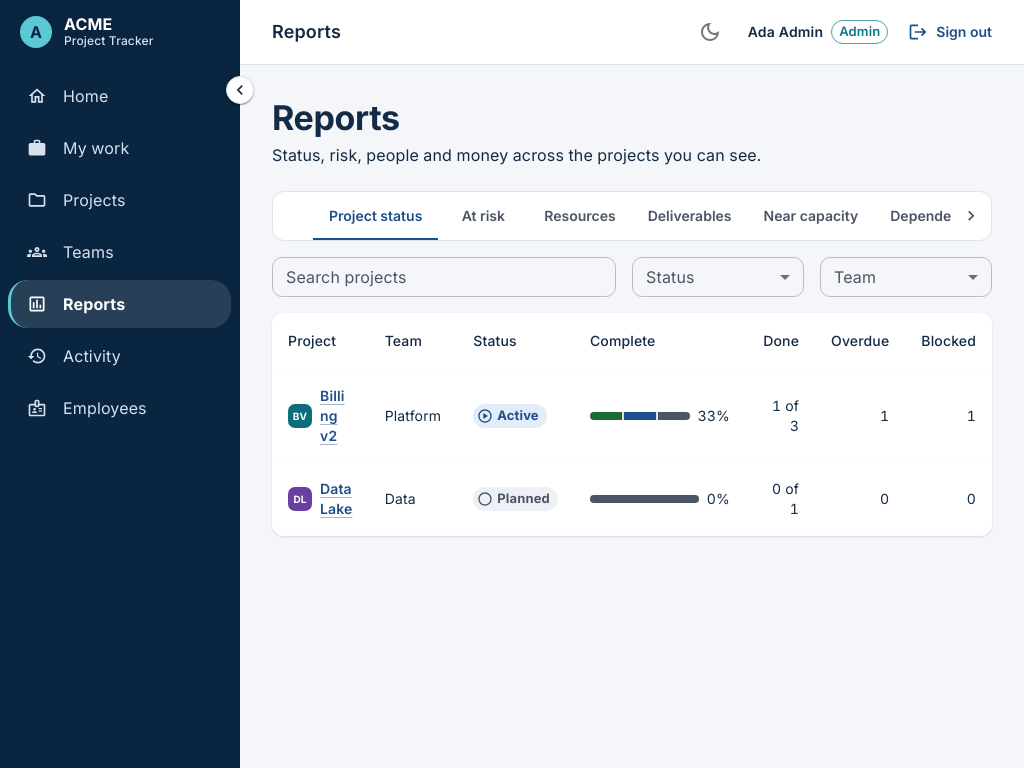
Test: Reports: content › at risk lists projects with readable reasons
Click the tab "At risk": (483, 216) left=438, top=192, right=528, bottom=240
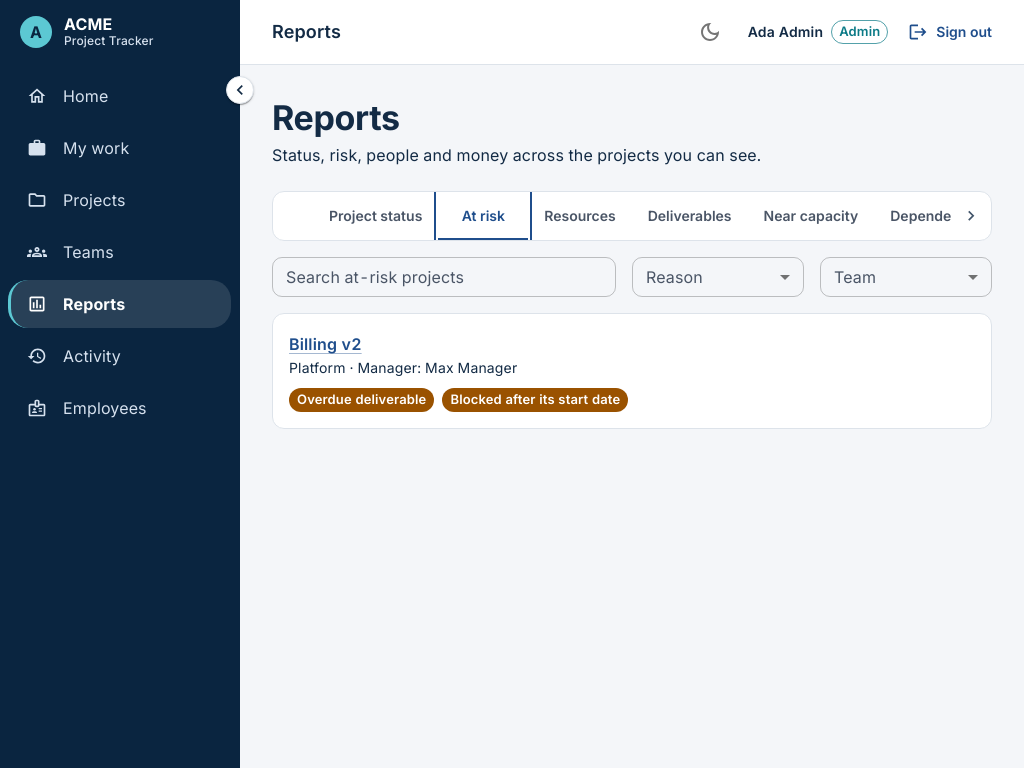
Result: the headings read "Billing v2", in this order at left=289, top=334, right=362, bottom=354
Result: the list items read "Overdue deliverable", "Blocked after its start date", in this order at left=289, top=386, right=434, bottom=412; left=442, top=386, right=628, bottom=412
